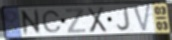C: (41, 10, 63, 34)
J: (116, 6, 131, 32)
N: (19, 8, 43, 37)
V: (131, 4, 152, 34)
X: (86, 6, 109, 34)
Z: (65, 7, 87, 34)
